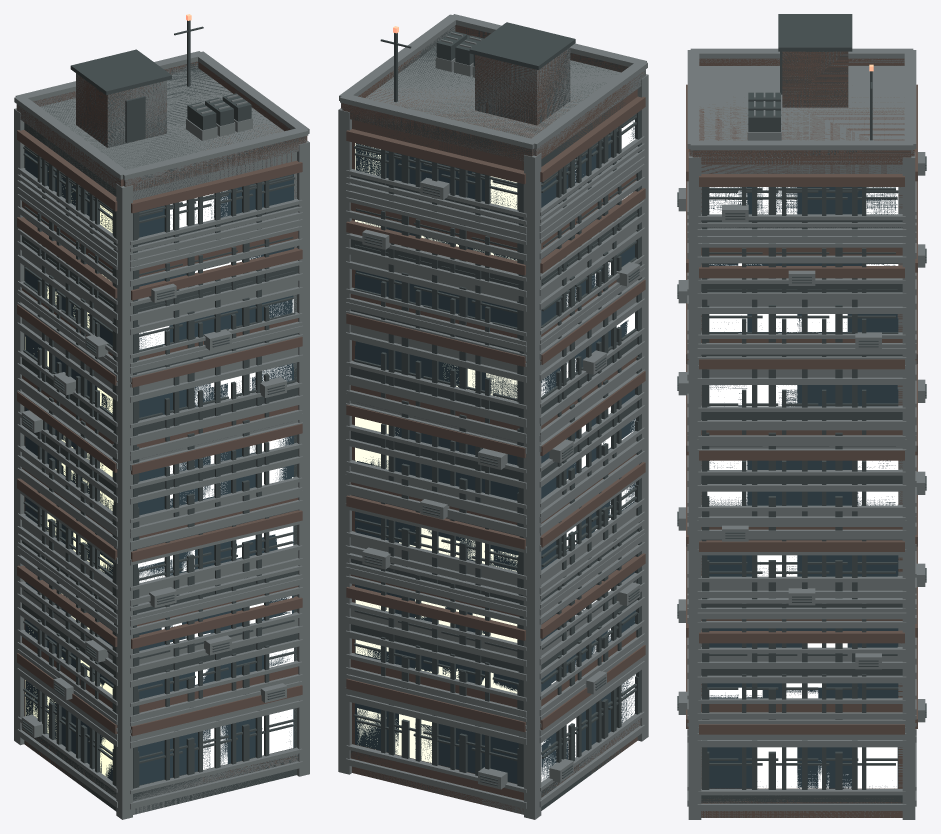
The model's file is roof-skyline.glb.
The picture shows the model from 3 angles, left to right: view 1: azimuth 30°, elevation 25°; view 2: azimuth 150°, elevation 25°; view 3: azimuth 270°, elevation 25°; orthographic projection. The views are drawn at different scales.
Parts seen in each view (by area): view 1: Skyline_0 - Precast concrete panels, Skyline_1 - Precast concrete panels, Skyline_0 - Rain-darkened masonry, Skyline_2 - Precast concrete panels, Skyline_2 - Blackened aluminium frames, Skyline_0 - Blackened aluminium frames, Skyline_1 - Blackened aluminium frames, Skyline_0 - Dark window glazing, Skyline_1 - Dark window glazing, Skyline_0 - Inhabited interiors, Skyline_2 - Dark window glazing, Skyline_1 - Inhabited interiors (+1 smaller); view 2: Skyline_0 - Precast concrete panels, Skyline_1 - Precast concrete panels, Skyline_0 - Rain-darkened masonry, Skyline_2 - Precast concrete panels, Skyline_2 - Blackened aluminium frames, Skyline_0 - Blackened aluminium frames, Skyline_1 - Blackened aluminium frames, Skyline_0 - Dark window glazing, Skyline_1 - Dark window glazing, Skyline_2 - Dark window glazing, Skyline_0 - Inhabited interiors, Skyline_1 - Inhabited interiors (+1 smaller); view 3: Skyline_1 - Precast concrete panels, Skyline_0 - Precast concrete panels, Skyline_0 - Rain-darkened masonry, Skyline_2 - Precast concrete panels, Skyline_2 - Blackened aluminium frames, Skyline_0 - Blackened aluminium frames, Skyline_1 - Dark window glazing, Skyline_1 - Blackened aluminium frames, Skyline_0 - Inhabited interiors, Skyline_2 - Dark window glazing, Skyline_0 - Dark window glazing, Skyline_1 - Inhabited interiors (+1 smaller).
Part boxes in pixels (x1,y1,x2,y2): Skyline_0 - Precast concrete panels: [14, 51, 309, 819]; Skyline_1 - Precast concrete panels: [16, 61, 306, 814]; Skyline_0 - Rain-darkened masonry: [16, 61, 307, 795]; Skyline_2 - Precast concrete panels: [17, 94, 302, 748]; Skyline_2 - Blackened aluminium frames: [22, 62, 306, 814]; Skyline_0 - Blackened aluminium frames: [23, 20, 294, 786]; Skyline_1 - Blackened aluminium frames: [23, 57, 295, 788]; Skyline_0 - Dark window glazing: [25, 150, 293, 782]; Skyline_1 - Dark window glazing: [25, 150, 293, 785]; Skyline_0 - Inhabited interiors: [55, 194, 293, 755]; Skyline_2 - Dark window glazing: [26, 151, 291, 780]; Skyline_1 - Inhabited interiors: [25, 190, 293, 776]; Skyline_0 - Precast concrete panels: [338, 14, 648, 819]; Skyline_1 - Precast concrete panels: [341, 25, 645, 814]; Skyline_0 - Rain-darkened masonry: [341, 25, 645, 813]; Skyline_2 - Precast concrete panels: [345, 32, 644, 789]; Skyline_2 - Blackened aluminium frames: [350, 25, 645, 810]; Skyline_0 - Blackened aluminium frames: [354, 22, 641, 786]; Skyline_1 - Blackened aluminium frames: [353, 24, 641, 769]; Skyline_0 - Dark window glazing: [355, 137, 635, 783]; Skyline_1 - Dark window glazing: [355, 138, 635, 773]; Skyline_2 - Dark window glazing: [357, 119, 634, 779]; Skyline_0 - Inhabited interiors: [355, 120, 635, 762]; Skyline_1 - Inhabited interiors: [355, 120, 635, 781]; Skyline_1 - Precast concrete panels: [687, 51, 916, 817]; Skyline_0 - Precast concrete panels: [687, 48, 916, 819]; Skyline_0 - Rain-darkened masonry: [686, 51, 917, 817]; Skyline_2 - Precast concrete panels: [678, 110, 925, 747]; Skyline_2 - Blackened aluminium frames: [677, 51, 926, 803]; Skyline_0 - Blackened aluminium frames: [702, 14, 897, 789]; Skyline_1 - Dark window glazing: [707, 187, 898, 788]; Skyline_1 - Blackened aluminium frames: [702, 14, 898, 789]; Skyline_0 - Inhabited interiors: [707, 187, 897, 788]; Skyline_2 - Dark window glazing: [709, 187, 895, 788]; Skyline_0 - Dark window glazing: [707, 187, 897, 780]; Skyline_1 - Inhabited interiors: [708, 187, 898, 698].
Size of the model in its own units: 5.6 by 18.28 by 5.6.
